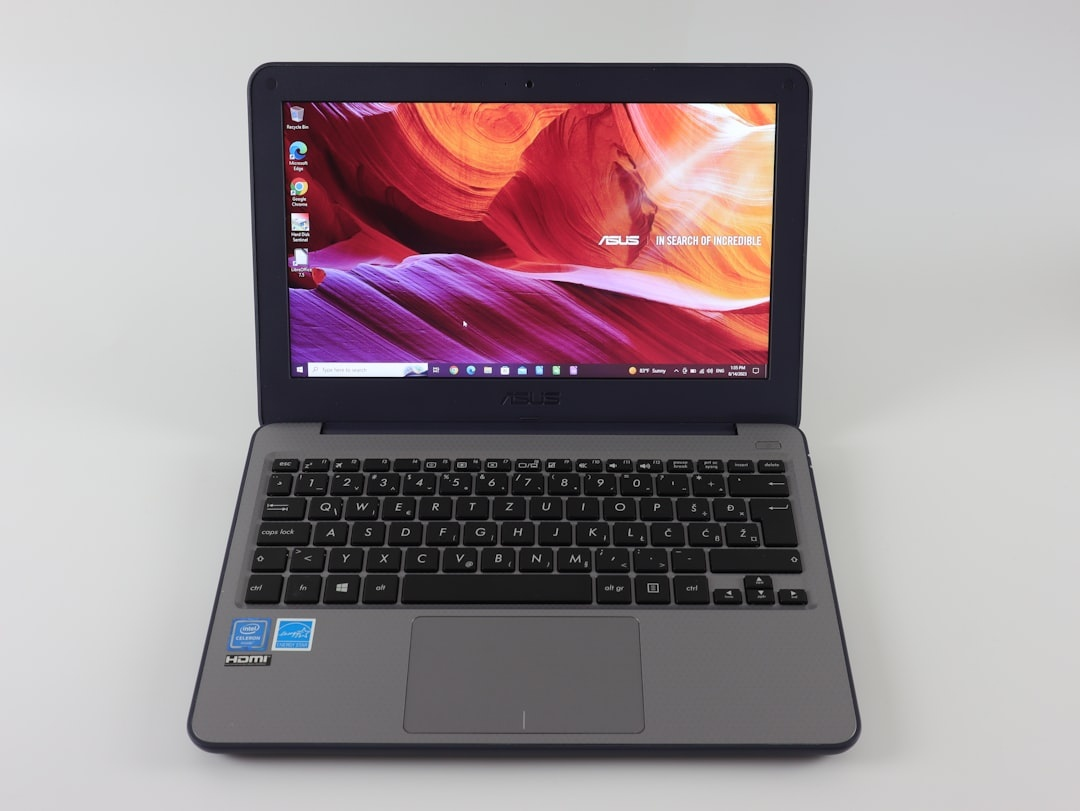laptop: (147, 22, 920, 794)
